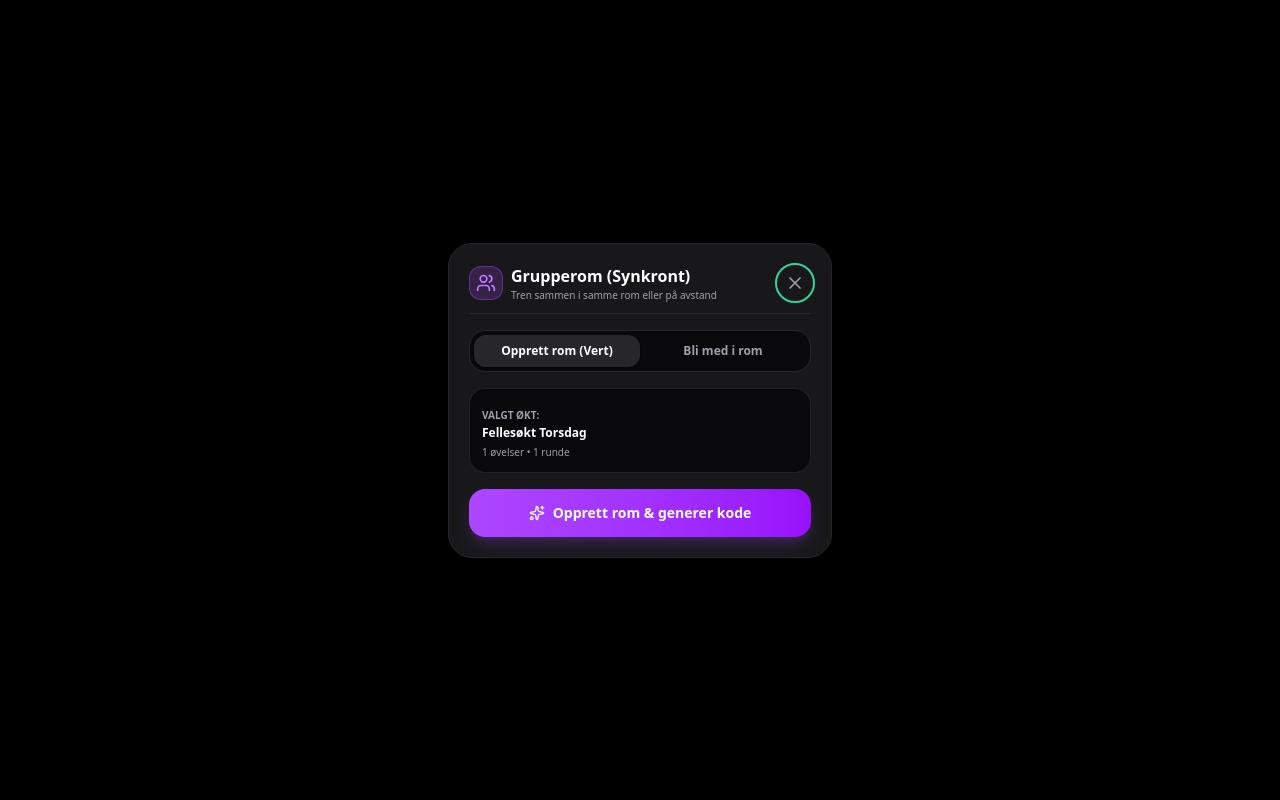
Test case: GroupRoomModal – join-flyt (deltaker) › avviser for kort romkode uten å kontakte tjenesten
Click the button "Bli med i rom" at coordinates (723, 350), box [640,334,806,366]
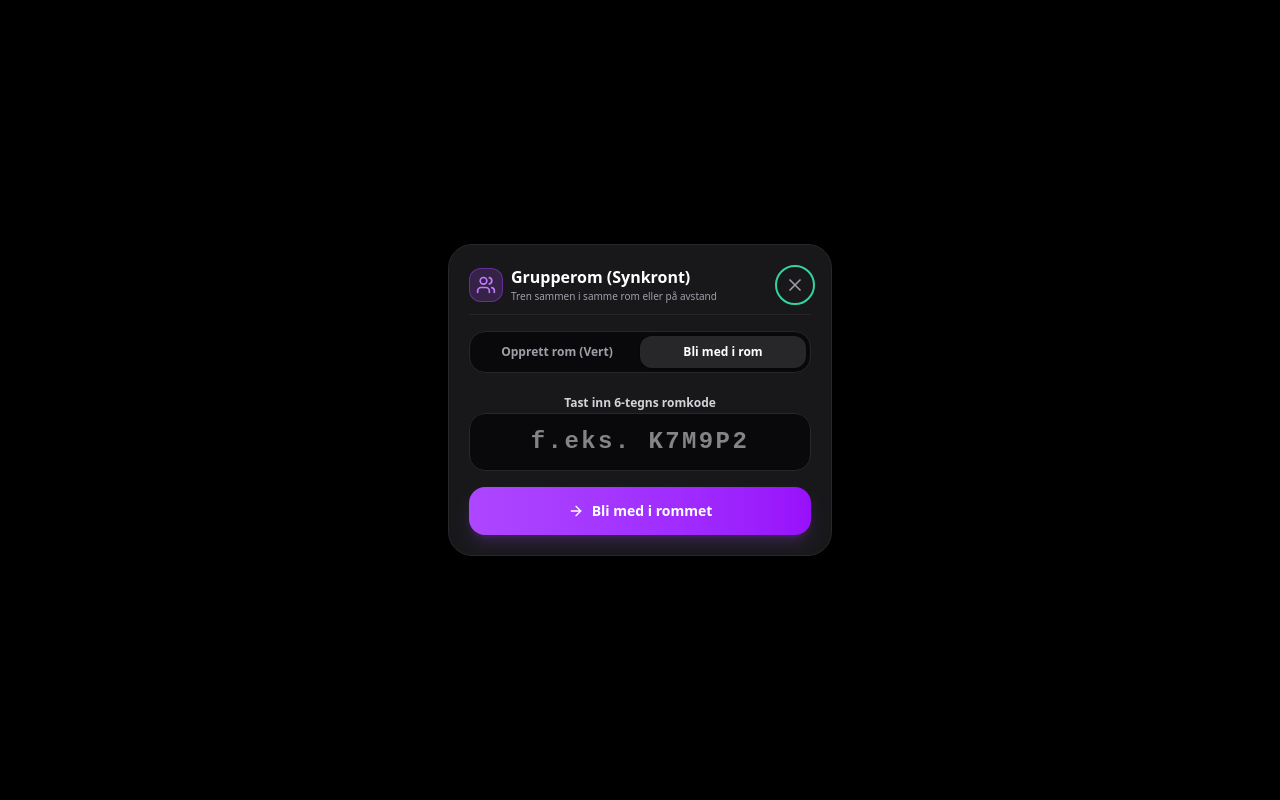
Type "K7M" into the field labelled "Tast inn 6-tegns romkode" at coordinates (640, 442), box [469,413,811,471]
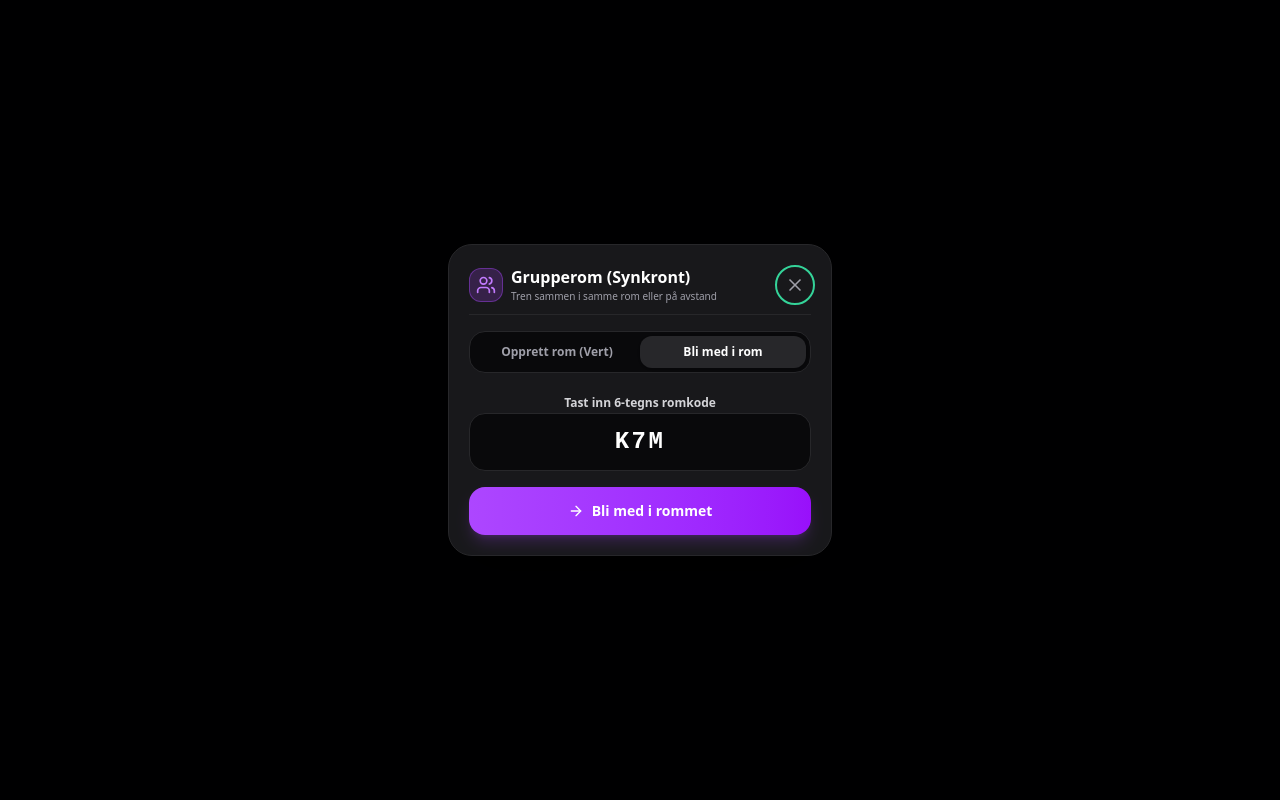
Click the button "Bli med i rommet" at coordinates (640, 511), box [469,487,811,535]
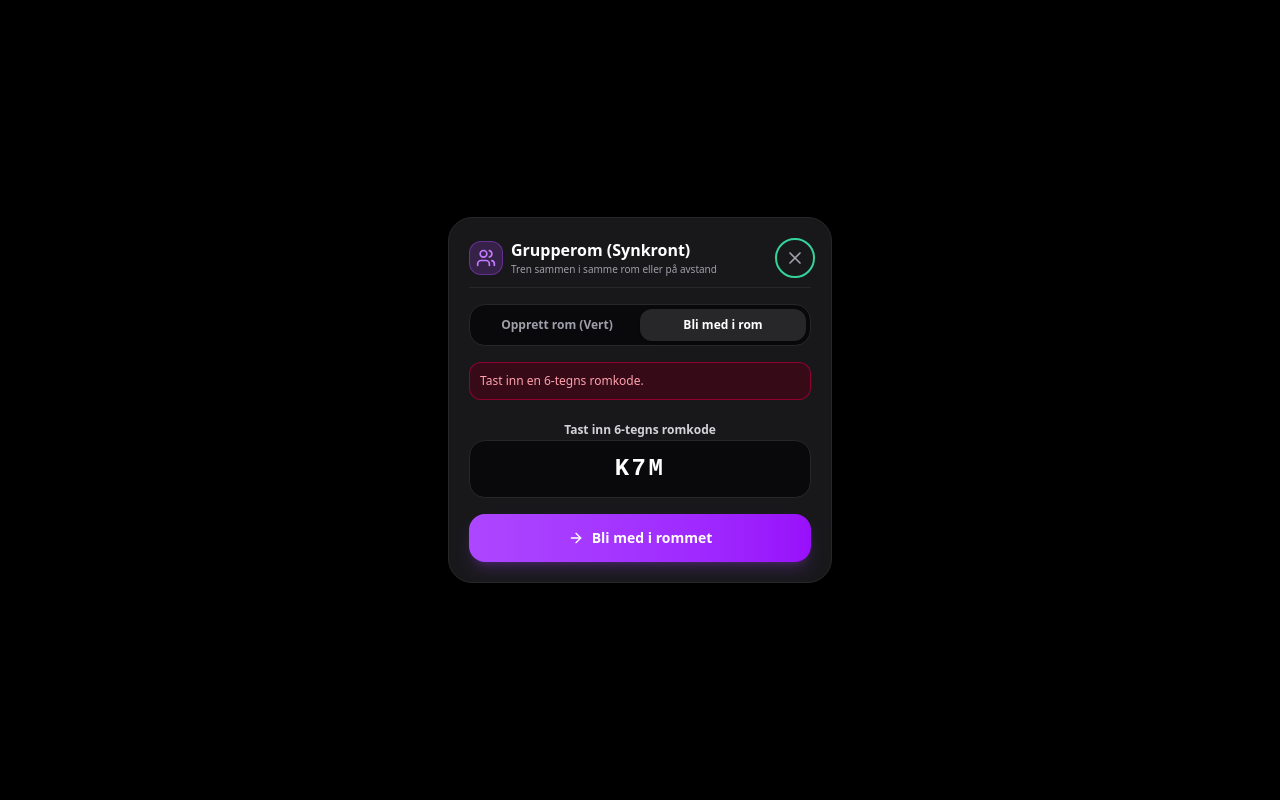
Result: the text "Tast inn en 6-tegns romkode." is shown at [469,362,811,400]
